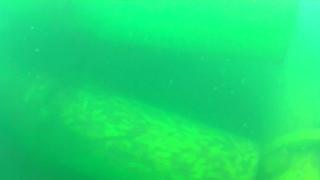pipe: (1, 60, 260, 180), (1, 1, 302, 66), (262, 126, 320, 180)
